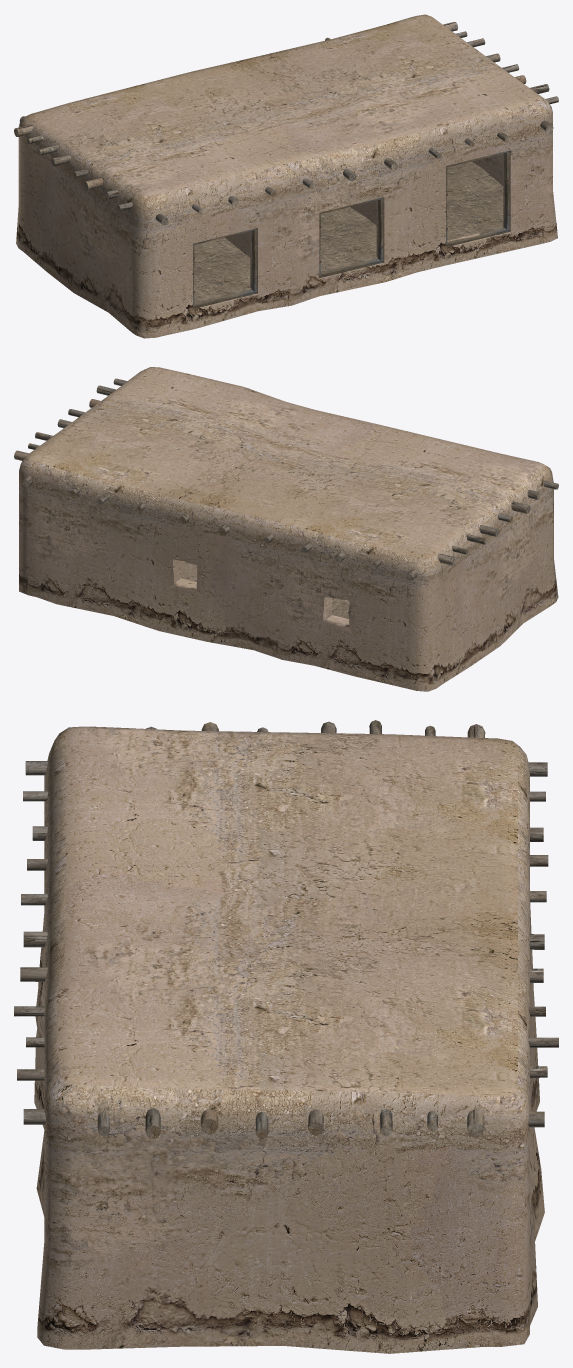
File: House_02.fbx
3 renders of one model, top to bottom at view 1: azimuth 30°, elevation 25°; view 2: azimuth 150°, elevation 25°; view 3: azimuth 270°, elevation 25°, orthographic. The views are drawn at different scales.
Visible parts, largest first — view 1: polySurface410; view 2: polySurface410; view 3: polySurface410.
Part boxes in pixels (box(x1,y1,x2,y2)): polySurface410: box(14, 14, 558, 338); polySurface410: box(14, 367, 558, 691); polySurface410: box(14, 720, 558, 1353).
Bounding box in the file's own units: 13.83 × 4.15 × 7.86.
